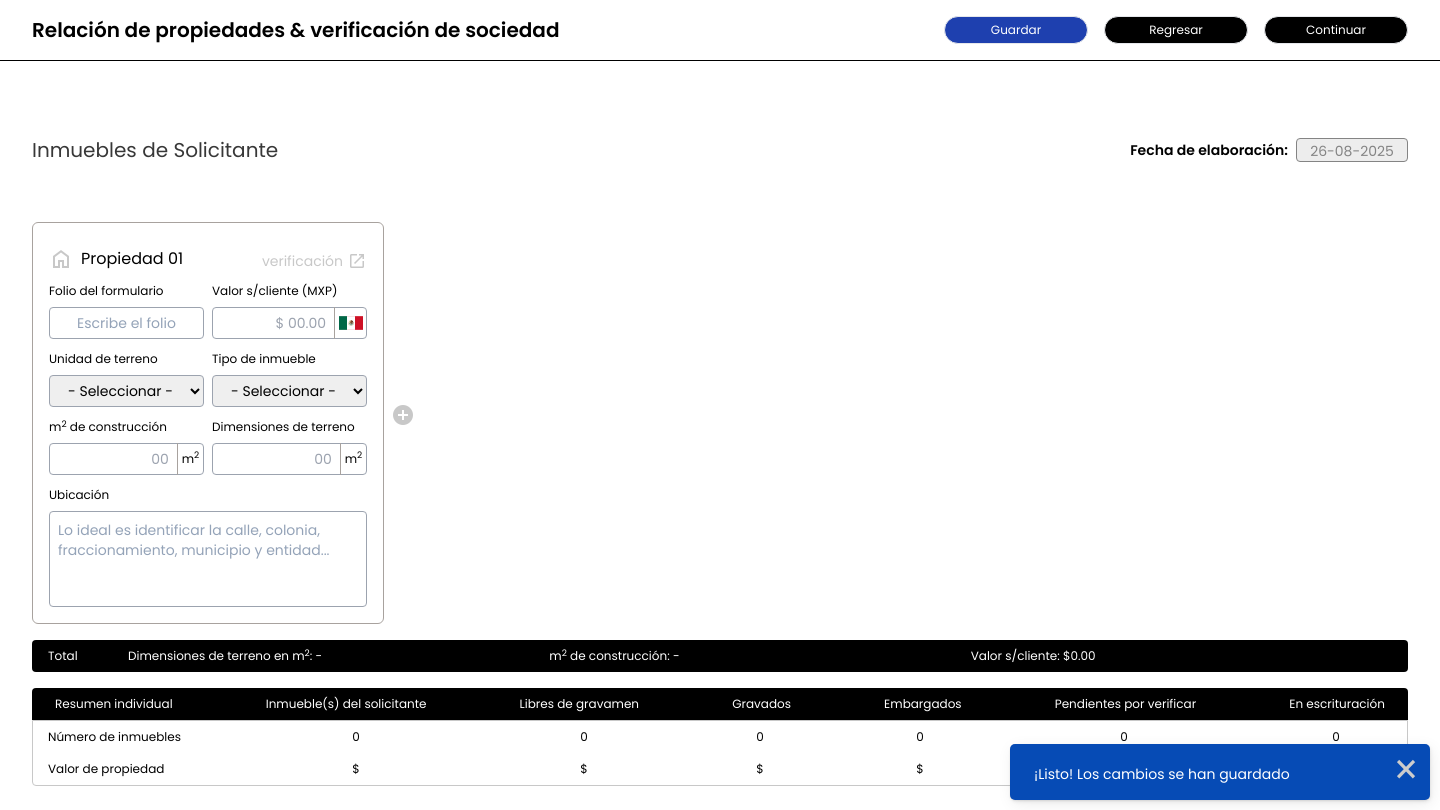
Test: PropertyVerification › Profile Especialista de Financiamiento › it adds a property form when clicking the add (+) button
Type "1000" into the field labelled "Folio del formulario" at (126, 323), box [49, 307, 204, 339]
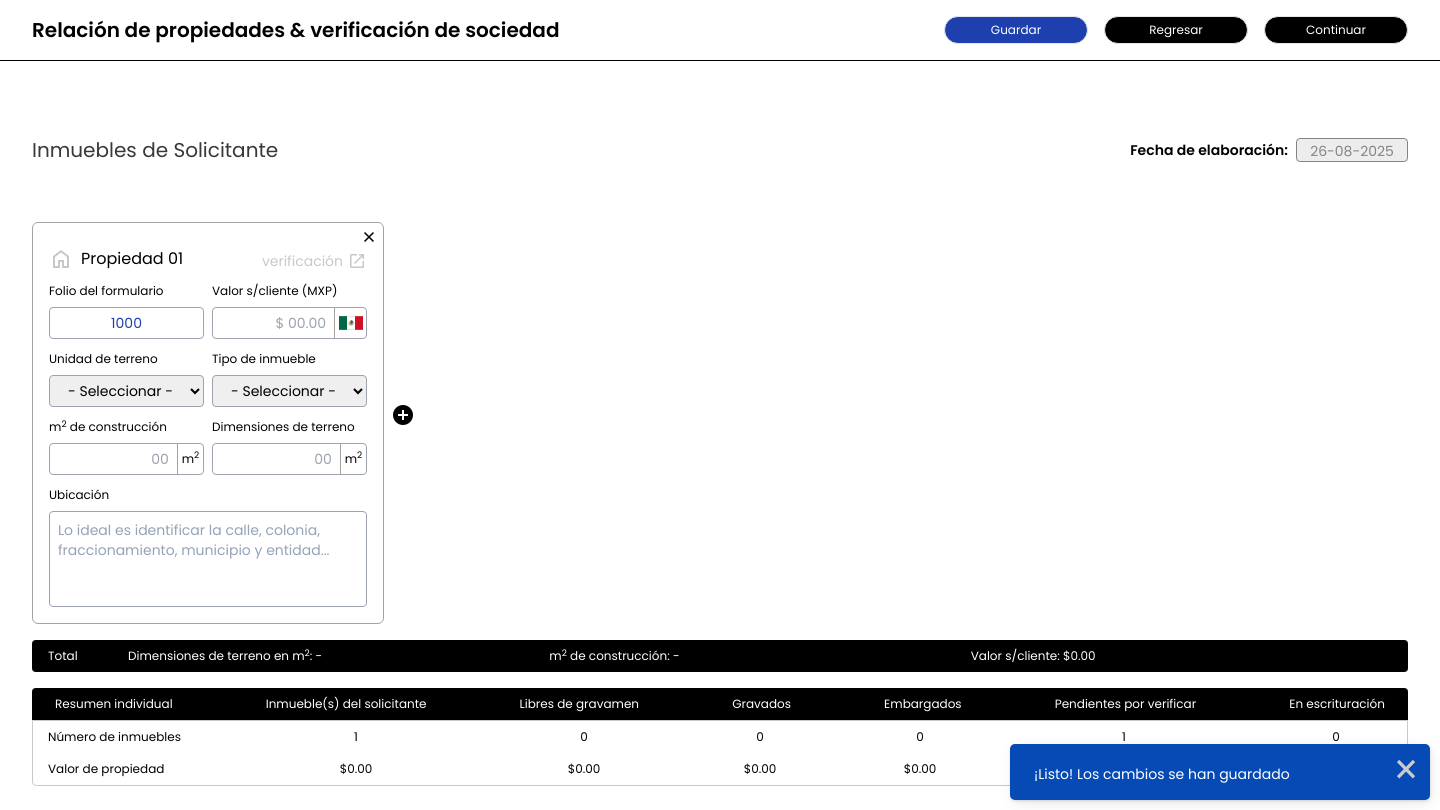
Click the button named "add_circle" at (403, 415), box [391, 403, 415, 427]
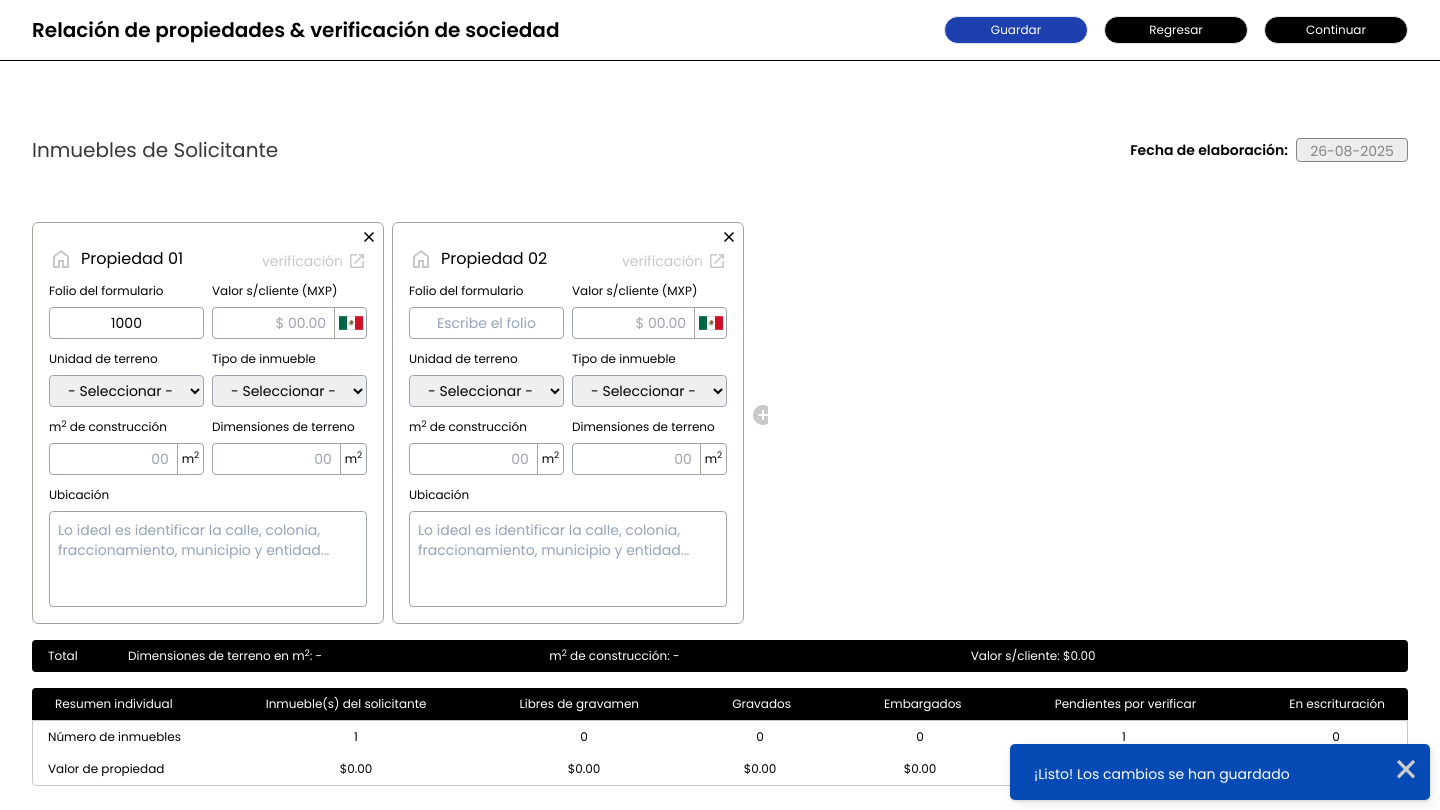
Result: the text "Propiedad 02" is shown at [441, 247, 547, 271]
